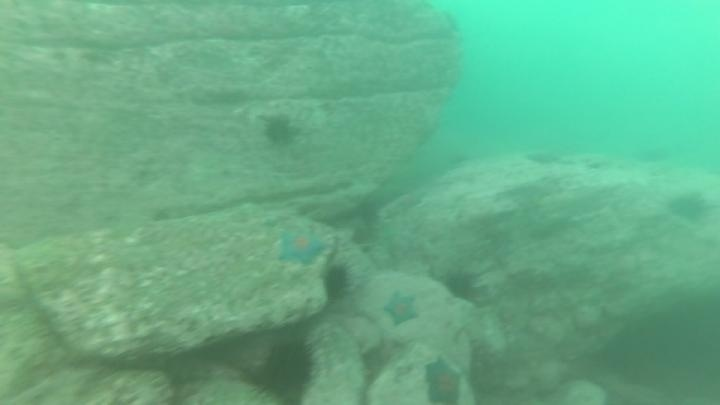echinus: (252, 335, 321, 404), (664, 189, 711, 227), (439, 266, 482, 306), (319, 261, 354, 304), (259, 112, 298, 149)
starfish: (420, 354, 467, 405), (275, 226, 329, 267), (380, 288, 423, 330), (378, 187, 429, 221)
